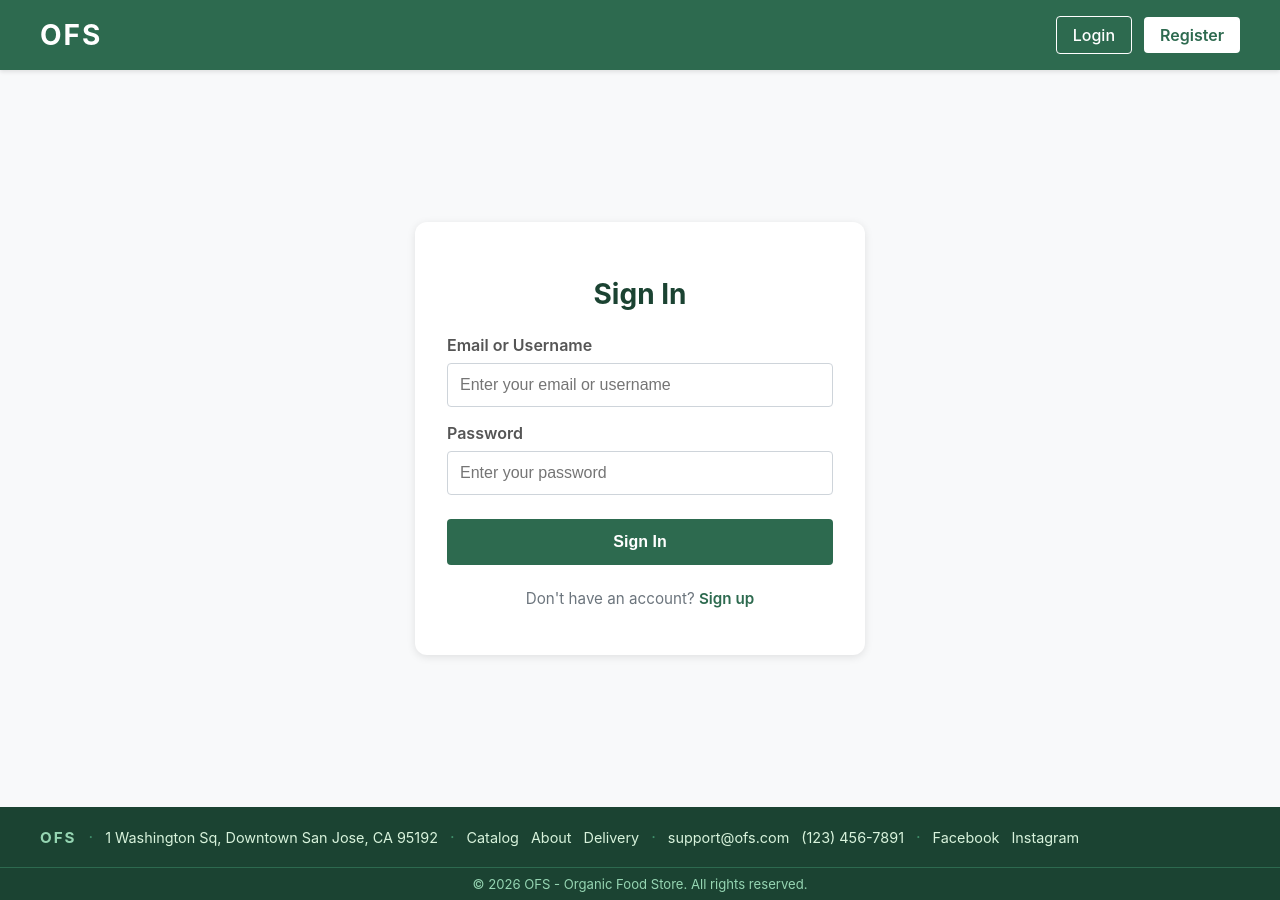
Test: login succeeds for CUSTOMER role and navigates home
The width and height of the screenshot is (1280, 900).
In the field labelled "Email or Username": [640, 385] box [447, 363, 833, 407], type "johndoe"
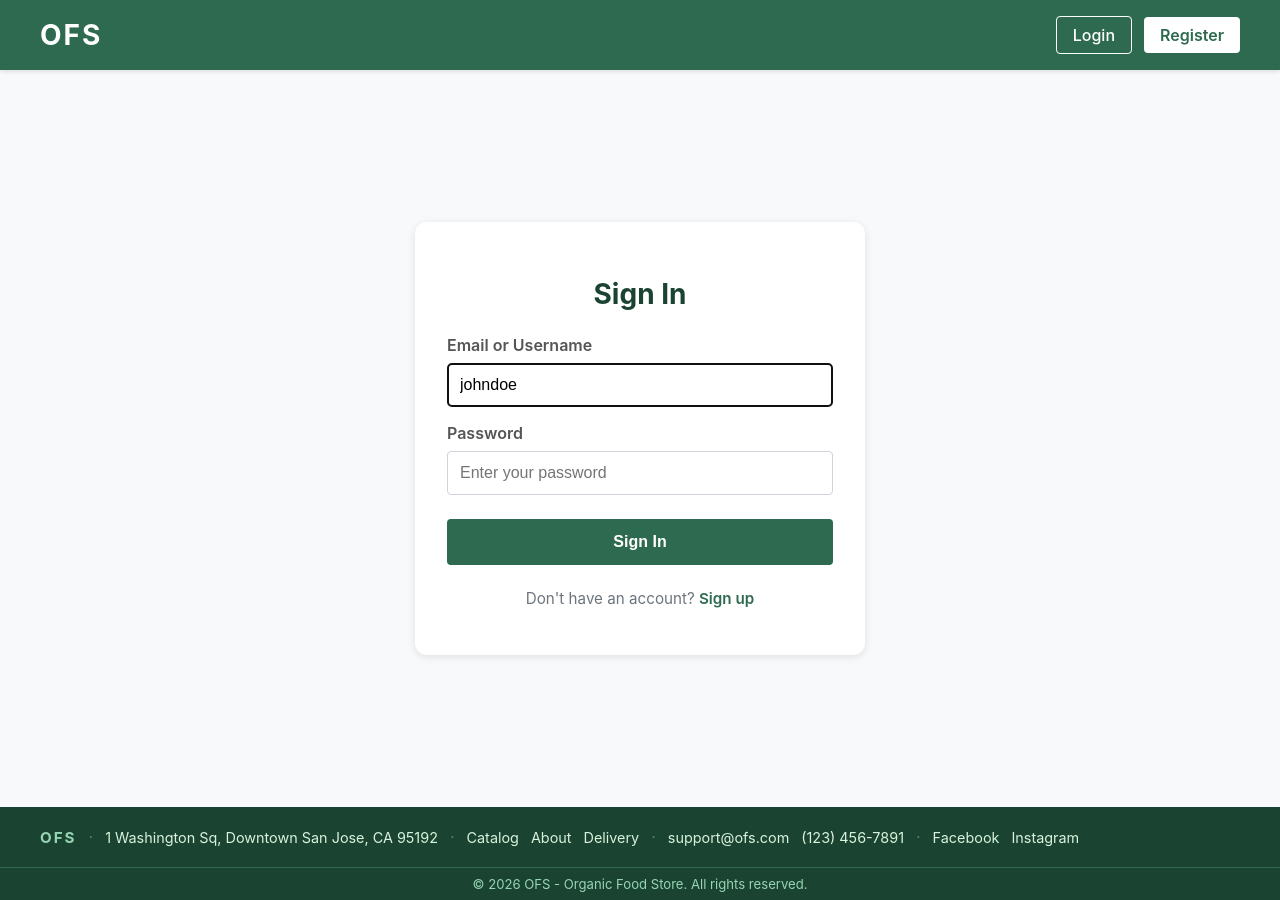
In the password field labelled "Password": [640, 473] box [447, 451, 833, 495], type "Secret123!"
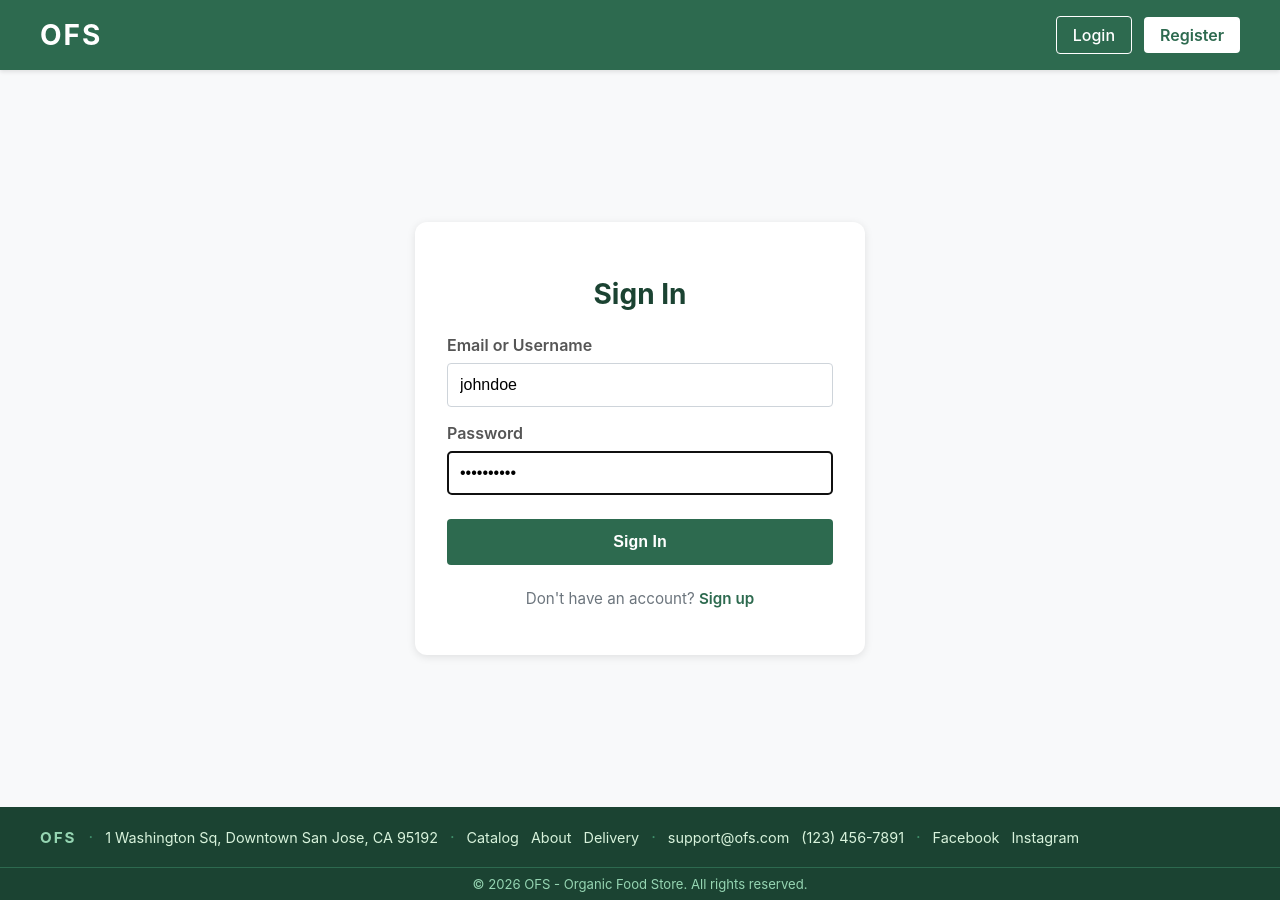
Click the button "Sign In": [640, 542] box [447, 519, 833, 565]
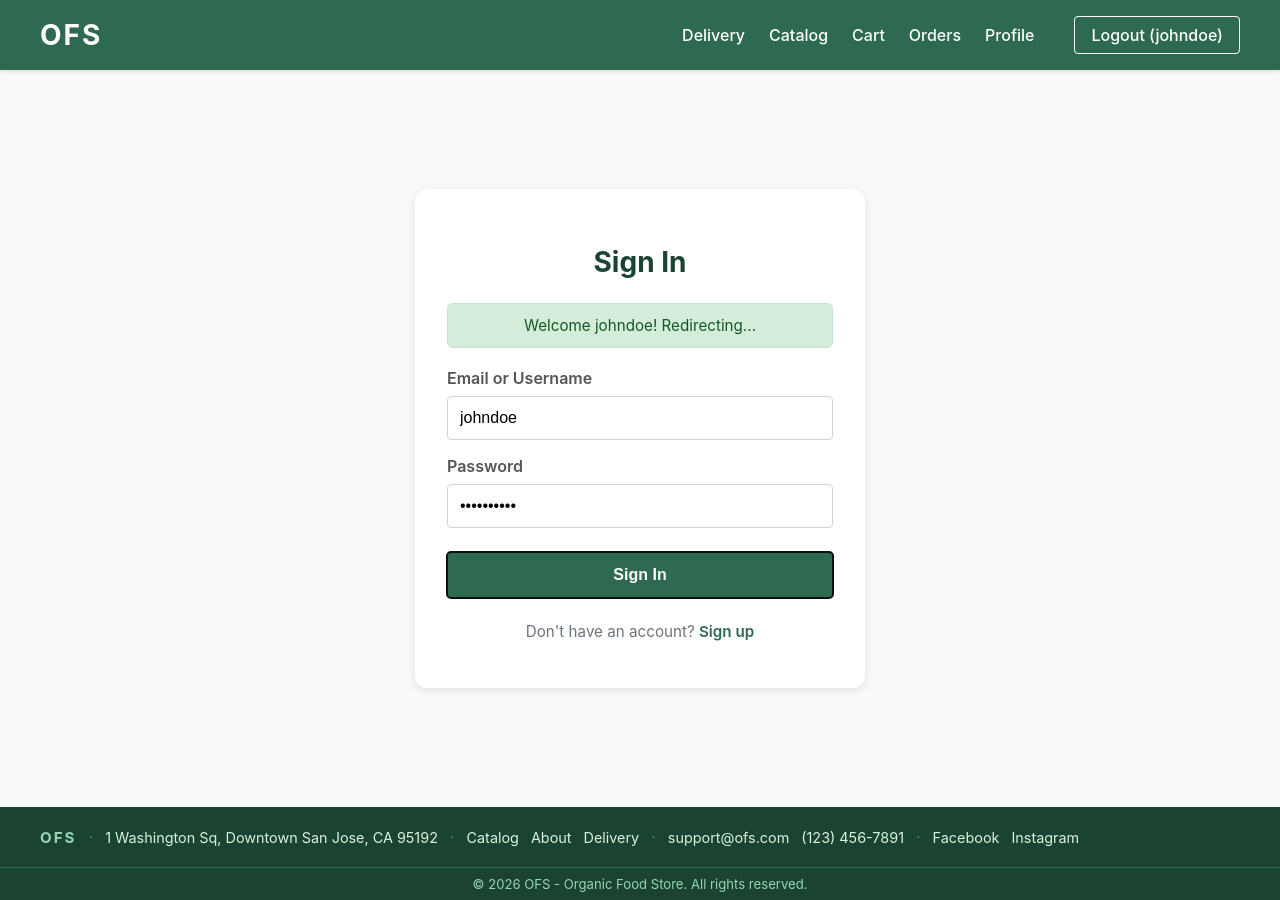
Expected: the text "Welcome johndoe! Redirecting..." is shown, [447, 302, 833, 348]
